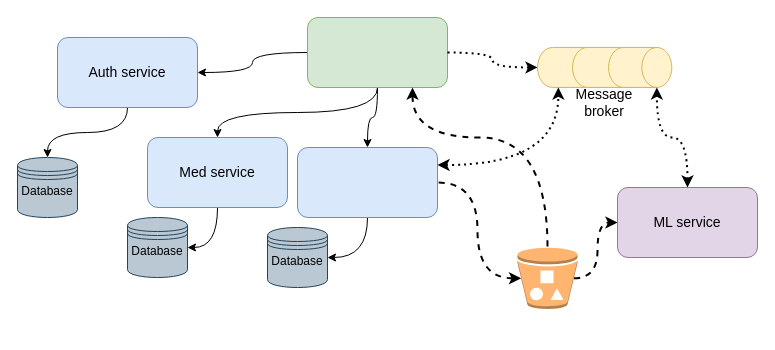
Some shapes in this 775 by 350 pixel diagram are drawn without their labels. Here are the shapes that lost their labels. From the top down, the centre of each, then its label:
At pixel 377 52: "Gateway service".
At pixel 367 182: "MRI service".
At pixel 547 277: "S3 storage".
